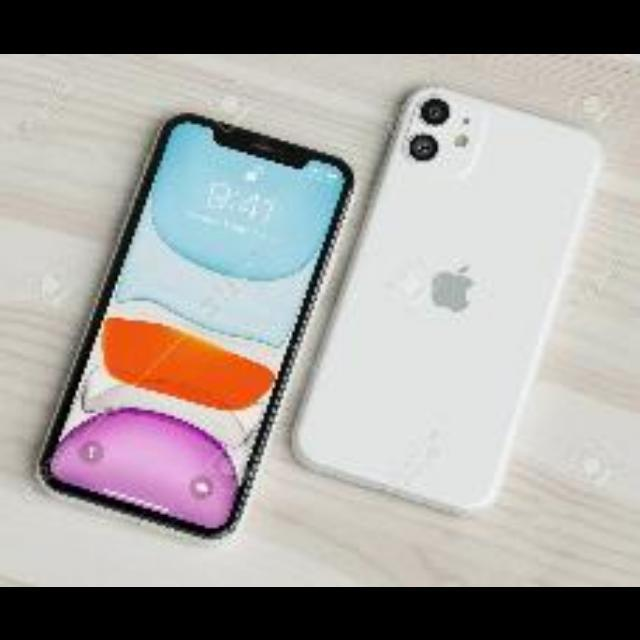PhoneUse: (34, 117, 354, 546), (300, 84, 610, 516)
